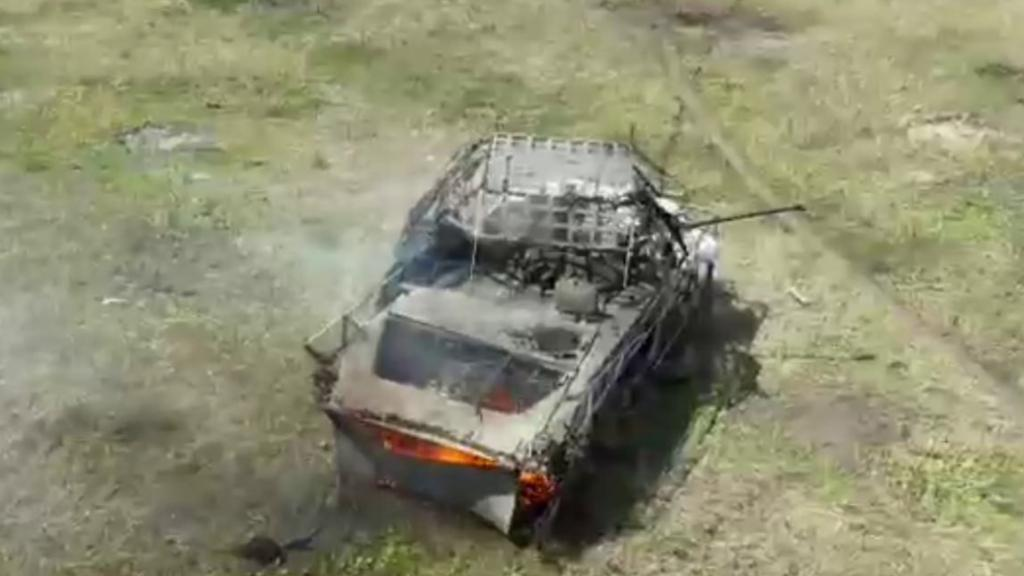APC-IFV: (299, 126, 719, 538)
